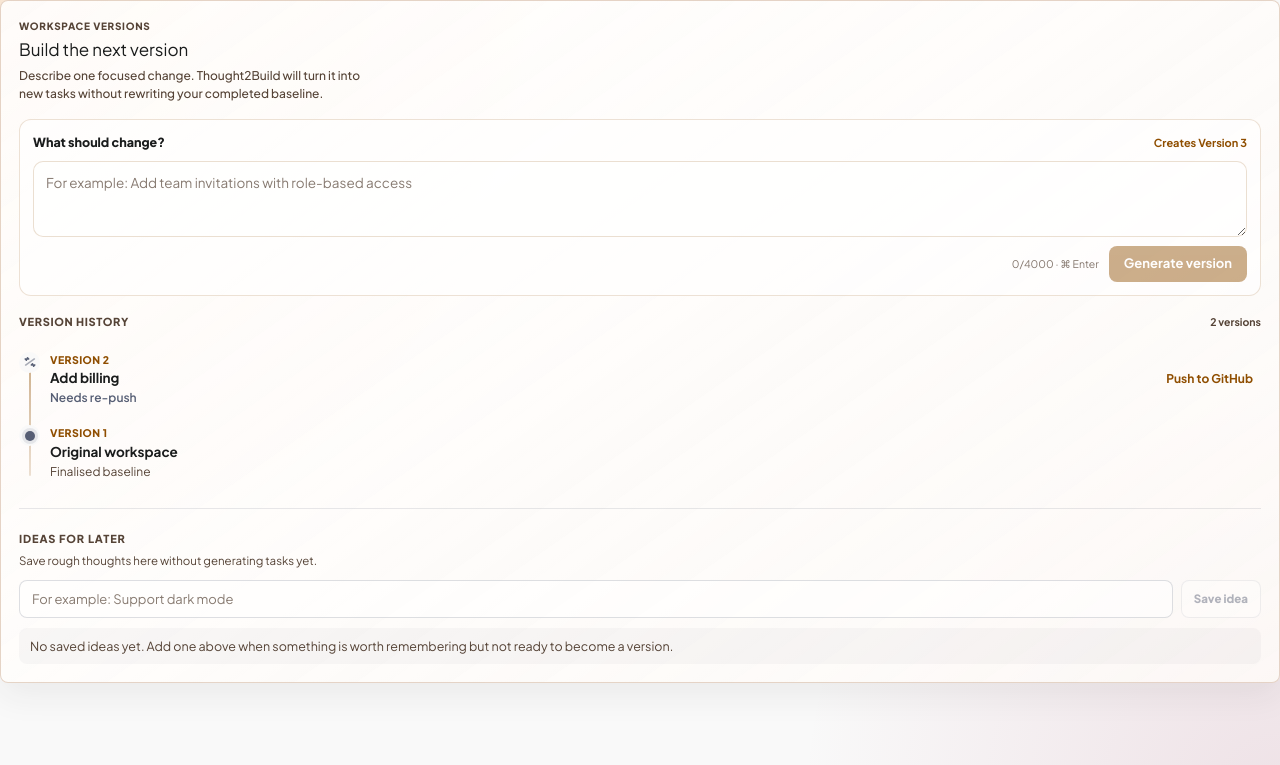
Test case: IncrementTimeline › maps push failure 409
The width and height of the screenshot is (1280, 765).
Click the button with aria-label "push increment 1".
click(1210, 380)  # box [1158,366,1261,392]
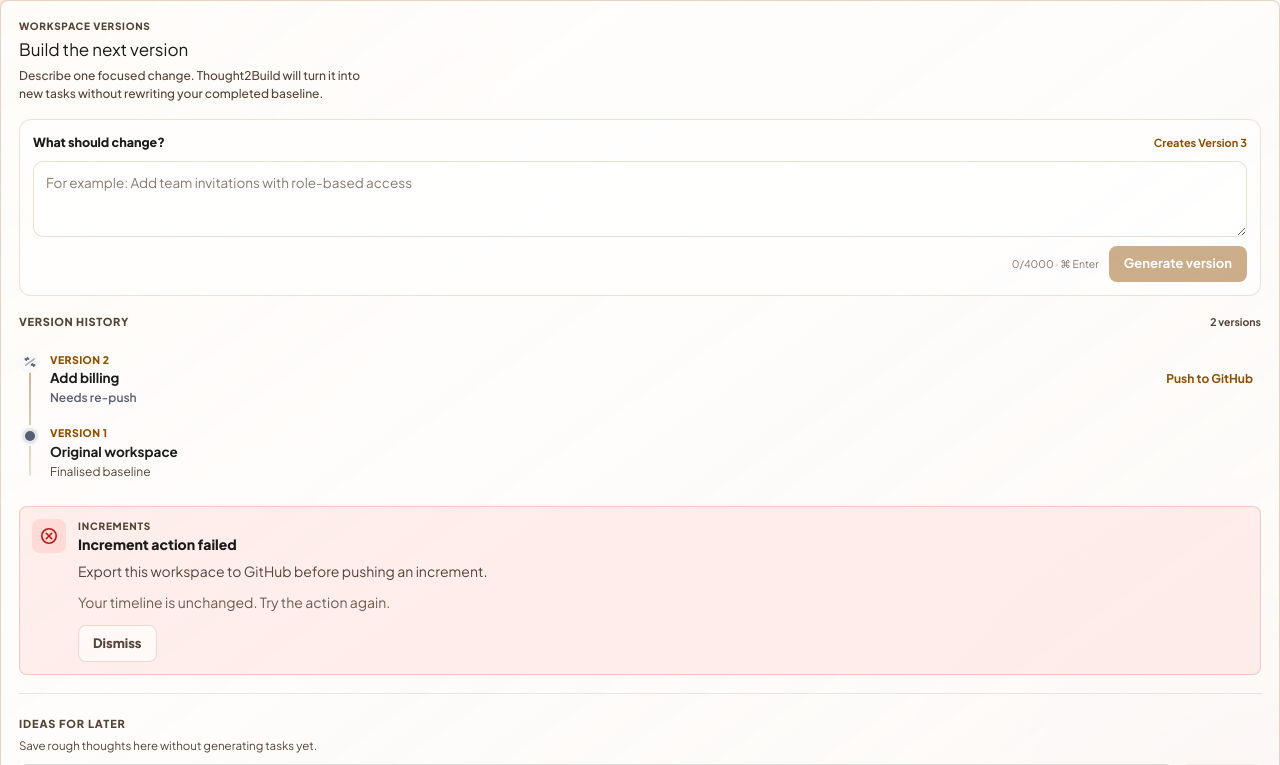
Expected: the text "Export this workspace to GitHub before pushing an increment." is shown, [78,561,487,582]
